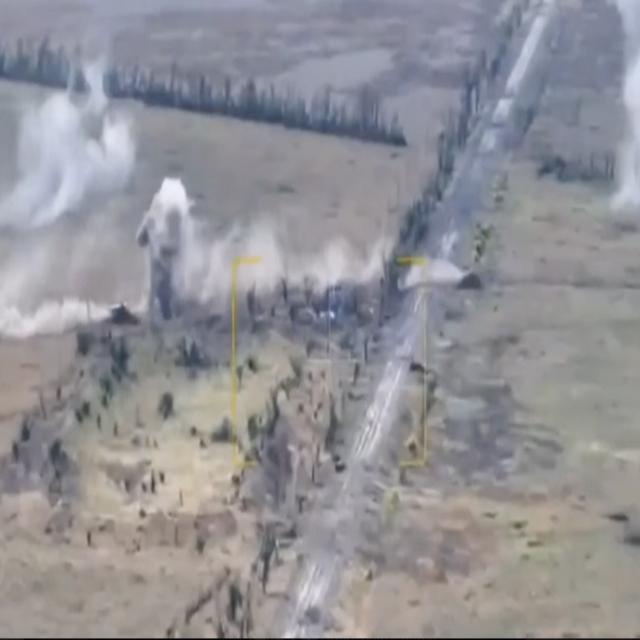vehicle: (110, 296, 139, 328)
